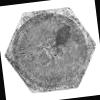screw: (0, 3, 100, 96)
